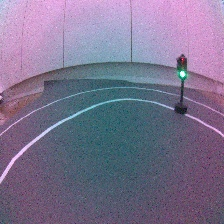green: (172, 53, 192, 115)
